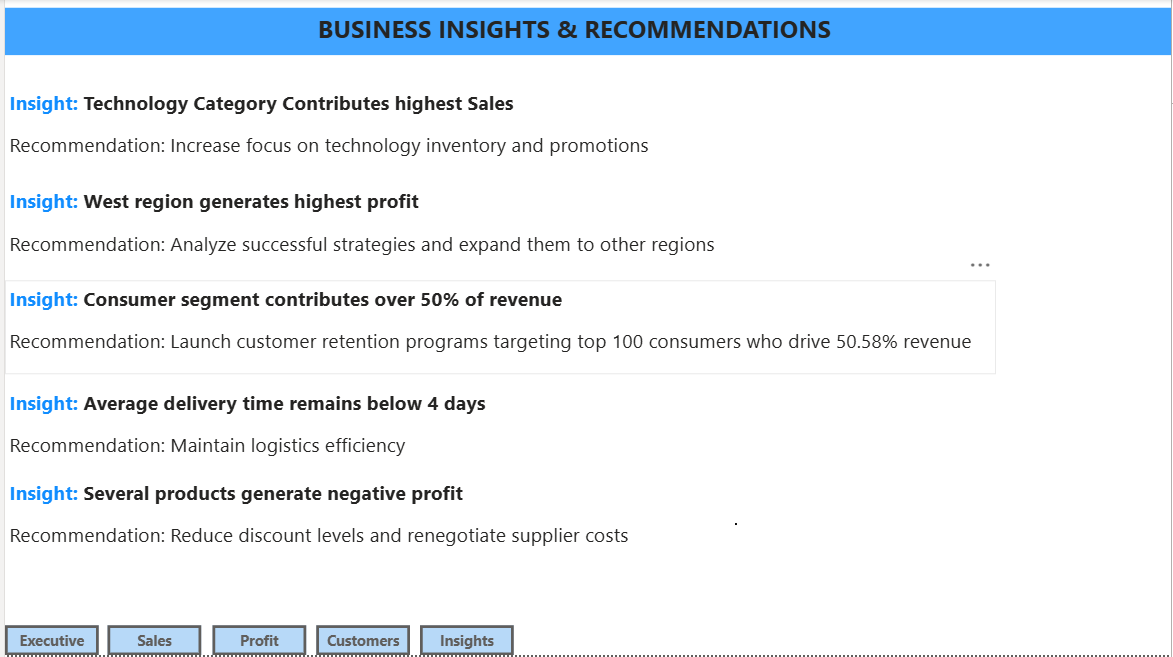

The page's visual inventory and layout, read from the dashboard file:
{"tool":"powerbi","page":{"name":"Business Insights & Recommendations","canvas":[1280,720],"ordinal":4},"visuals":[{"type":"textbox","box":[0,93.3,723.2,108.4],"z":0},{"type":"textbox","box":[0,201.7,856.3,107],"z":1000},{"type":"textbox","box":[0,521.4,710.8,107],"z":2000},{"type":"textbox","box":[0,308.7,1088.2,102.9],"z":3000},{"type":"textbox","box":[0,422.6,558.5,86.4],"z":4000},{"type":"textbox","box":[0,9.6,1280.3,52.1],"z":5000},{"type":"actionButton","box":[0,687.5,102.9,32.9],"z":6000},{"type":"actionButton","box":[112.5,687.5,102.9,32.9],"z":7000},{"type":"actionButton","box":[227.8,687.5,102.9,32.9],"z":8000},{"type":"actionButton","box":[341.7,687.5,102.9,32.9],"z":9000},{"type":"actionButton","box":[455.6,687.5,102.9,32.9],"z":10000}]}

Visuals, with their boxes on the page's 1280x720 design canvas (x1, y1, x2, y2). These are canvas units, not pixel positions in the 1173x657 screenshot, which may show the page scaled, cropped or inside an application window:
textbox: <bbox>0, 93, 723, 202</bbox>
textbox: <bbox>0, 202, 856, 309</bbox>
textbox: <bbox>0, 521, 711, 628</bbox>
textbox: <bbox>0, 309, 1088, 412</bbox>
textbox: <bbox>0, 423, 558, 509</bbox>
textbox: <bbox>0, 10, 1280, 62</bbox>
actionButton: <bbox>0, 688, 103, 720</bbox>
actionButton: <bbox>112, 688, 215, 720</bbox>
actionButton: <bbox>228, 688, 331, 720</bbox>
actionButton: <bbox>342, 688, 445, 720</bbox>
actionButton: <bbox>456, 688, 558, 720</bbox>
